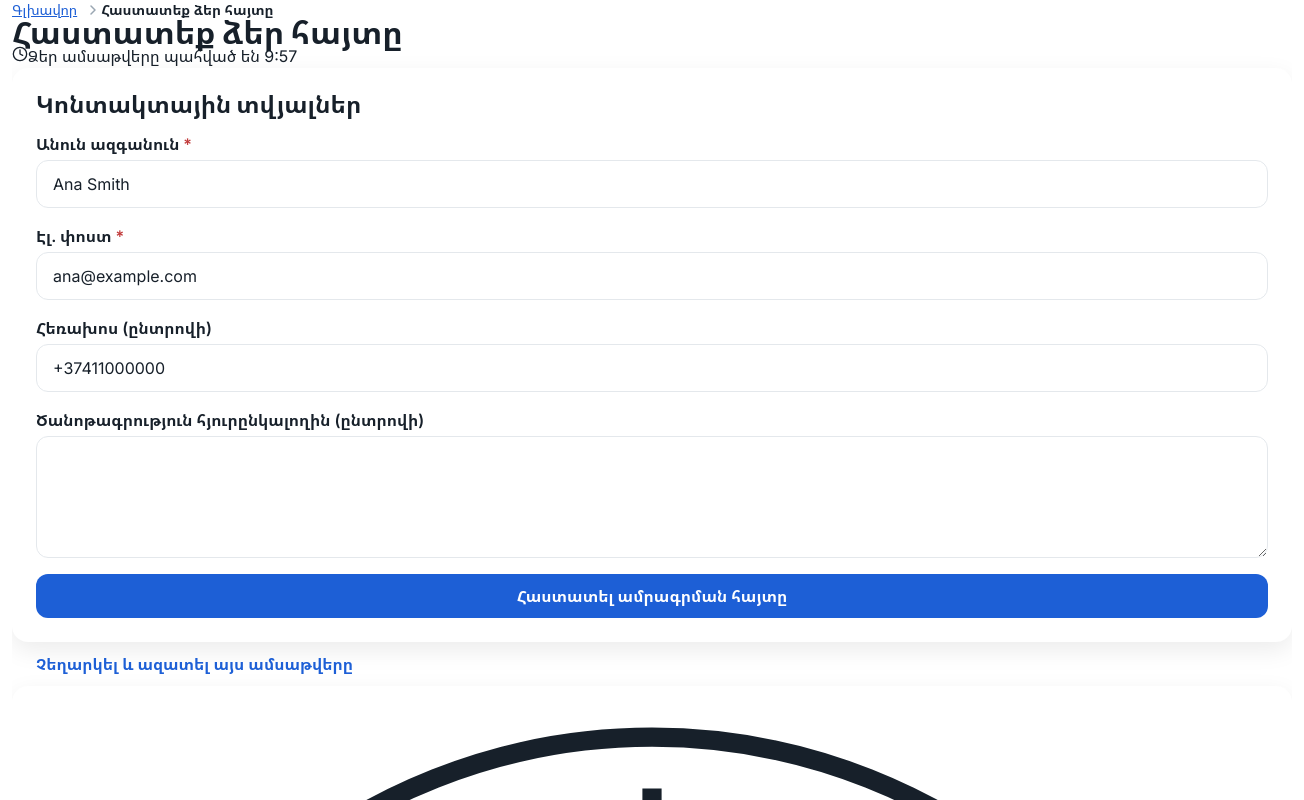
it: BookingCheckoutPageContent (apps/web/src/modules/bookings) › a stale hold rejected server-side (HOLD_EXPIRED) shows a specific conflict message and blocks resubmission
Click the button "Հաստատել ամրագրման հայտը". click: (652, 596)
box: x1=36 y1=574 x2=1268 y2=618
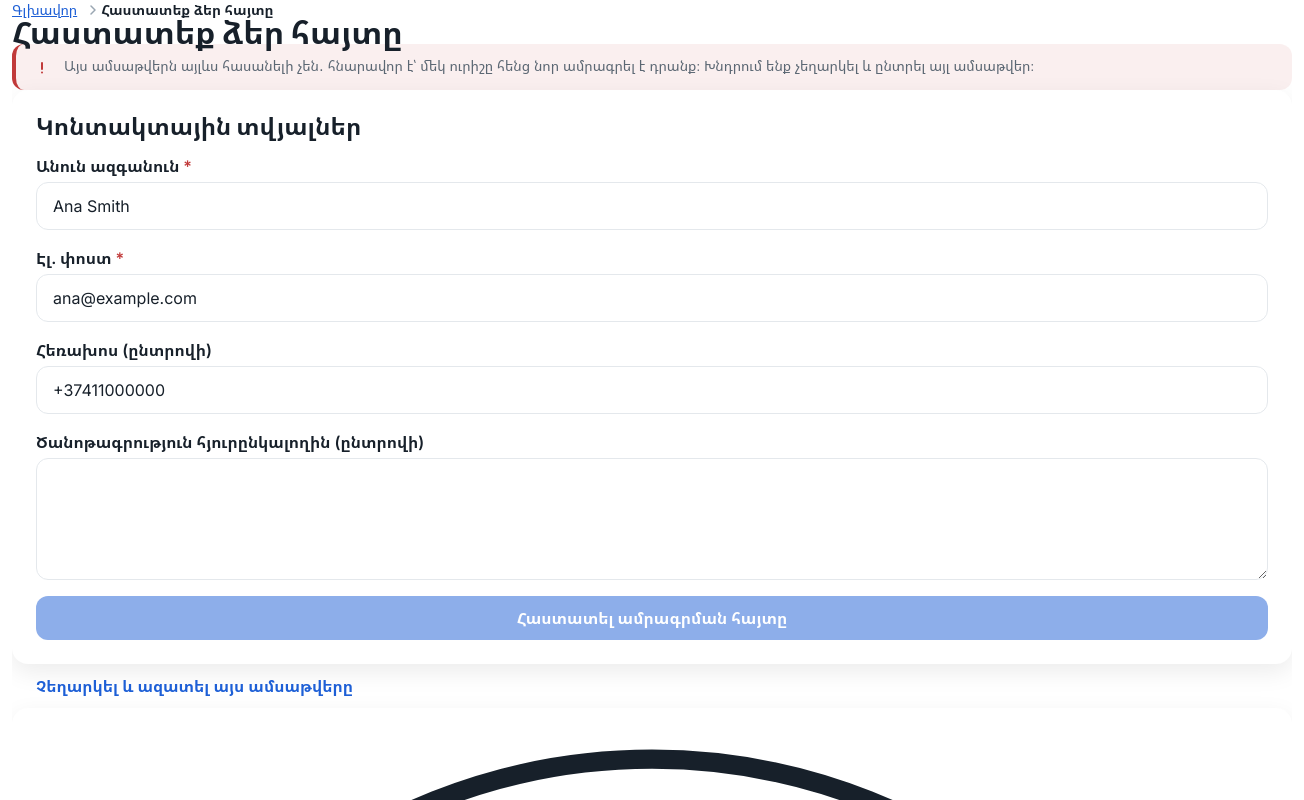
Expected: the text "Այս ամսաթվերն այլևս հասանելի չեն․ հնարավոր է՝ մեկ ուրիշը հենց նոր ամրագրել է դրանք։ Խնդրում ենք չեղարկել և ընտրել այլ ամ" is shown, x1=64 y1=57 x2=1034 y2=74
Expected: the button "Հաստատել ամրագրման հայտը" is disabled, x1=36 y1=596 x2=1268 y2=640
